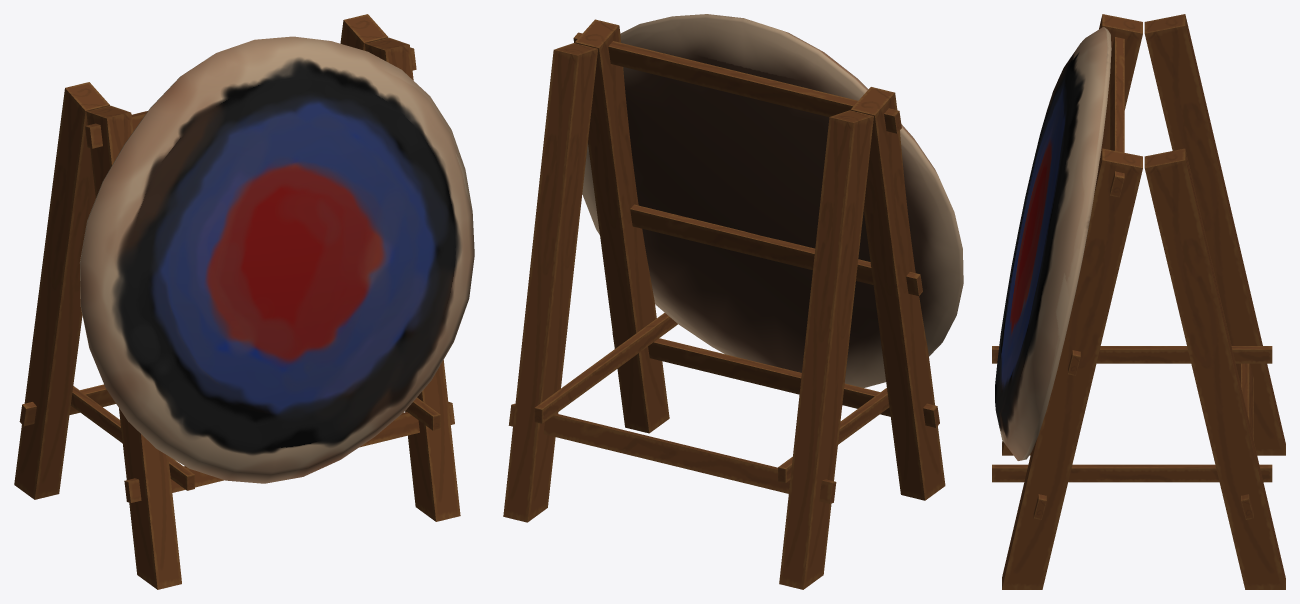
The model's file is Alvo.fbx.
The picture shows the model from 3 angles, left to right: view 1: azimuth 30°, elevation 25°; view 2: azimuth 150°, elevation 25°; view 3: azimuth 270°, elevation 25°; orthographic projection.
Visible parts, largest first — view 1: Alvo; view 2: Alvo; view 3: Alvo.
Part boxes in pixels (x1,y1,x2,y2): Alvo: (14, 14, 474, 589); Alvo: (503, 14, 963, 589); Alvo: (992, 14, 1285, 589).
Bounding box in the file's own units: 134 × 155 × 87.81.
Materials: 1 (1 with a texture image).
